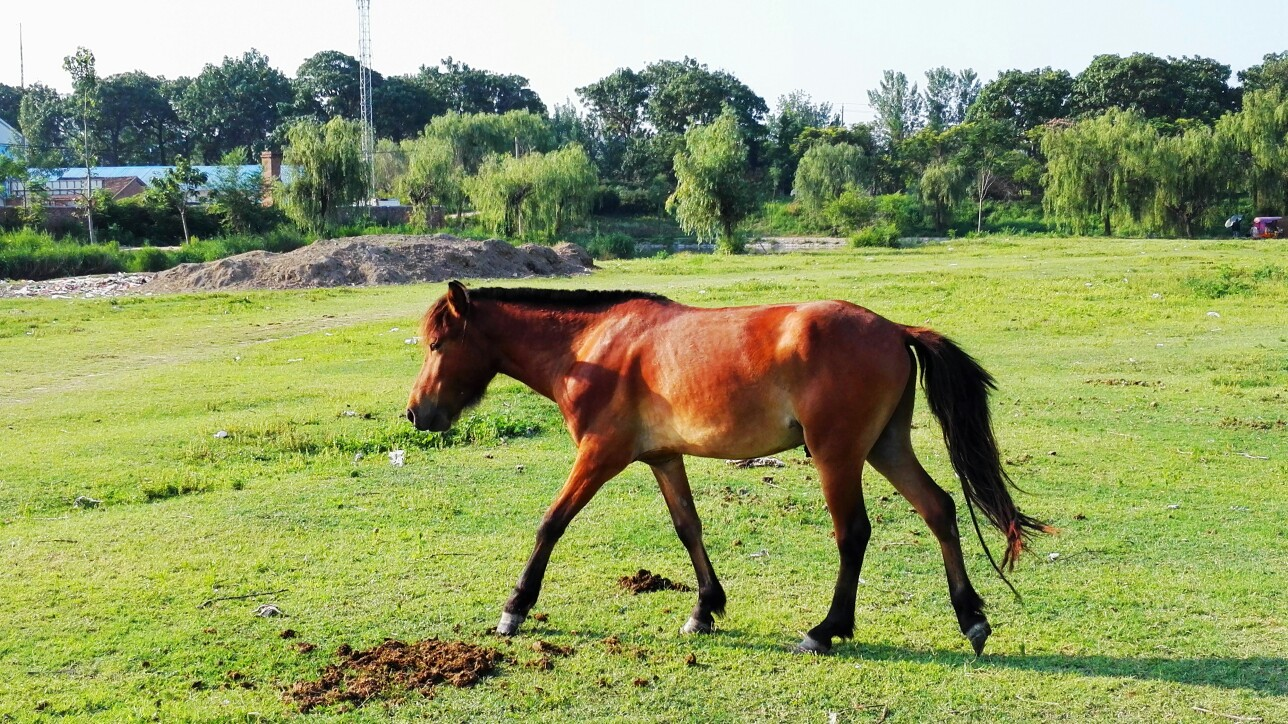horse: (407, 278, 1055, 660)
